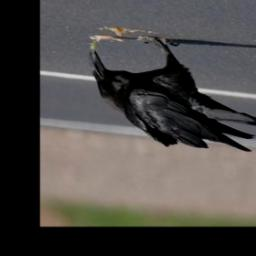Crow: (89, 37, 256, 153)
